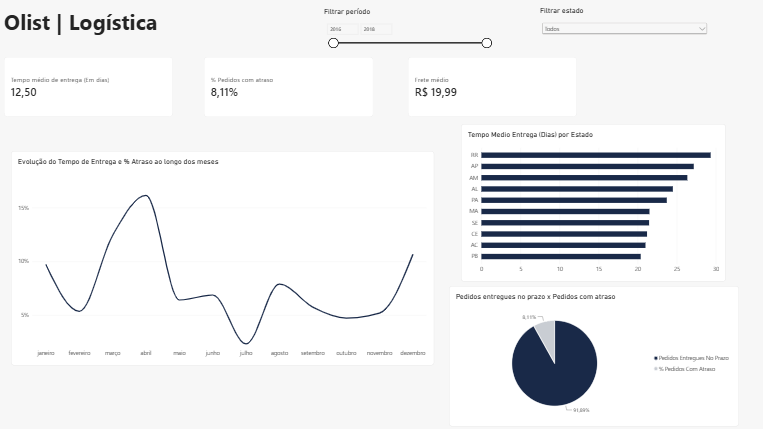

Layout of this report page (visuals, bound fields, positions):
{"tool":"powerbi","page":{"name":"Visão Logística","canvas":[1920,1080],"ordinal":1},"visuals":[{"type":"textbox","box":[17.5,22.5,755,82.5],"z":0},{"type":"cardVisual","fields":{"Data":["Medidas.Tempo Medio Entrega (Dias)"]},"box":[18,148,422.9,149.6],"z":1000},{"type":"slicer","title":"Filtrar período","fields":{"Values":["pedidos.order_delivered_customer_date.Variação.Hierarquia de datas.Ano"]},"box":[818,22,422.9,106.3],"z":2000},{"type":"slicer","title":"Filtrar estado","fields":{"Values":["clientes.customer_state"]},"box":[1358,20,422.9,106.3],"z":3000},{"type":"cardVisual","fields":{"Data":["Medidas.% Pedidos Com Atraso"]},"box":[518,148,423,150],"z":4000},{"type":"cardVisual","fields":{"Data":["Medidas.FreteMedio"]},"box":[1028,148,422.9,149.6],"z":5000},{"type":"lineChart","title":"Evolução do Tempo de Entrega e % Atraso ao longo dos meses","fields":{"Category":["pedidos.order_delivered_customer_date.Variação.Hierarquia de datas.Mês"],"Y":["Medidas.% Pedidos Com Atraso"]},"box":[36,382,1058,536],"z":6000},{"type":"clusteredBarChart","fields":{"Category":["clientes.customer_state"],"Y":["Medidas.Tempo Medio Entrega (Dias)"]},"box":[1160,314,662,394],"z":7000},{"type":"pieChart","title":"Pedidos entregues no prazo x Pedidos com atraso","fields":{"Y":["Medidas.Pedidos Entregues No Prazo","Medidas.% Pedidos Com Atraso"]},"box":[1128.8,718.8,725,351.2],"z":8000}]}

Visuals, with their boxes in screenshot pixels (x1, y1, x2, y2), scaled from the page's 1920x1080 canvas onto the 763x429 screenshot:
textbox: bbox=(7, 9, 307, 42)
cardVisual - Medidas.Tempo Medio Entrega (Dias): bbox=(7, 59, 175, 118)
"Filtrar período" slicer: bbox=(325, 9, 493, 51)
"Filtrar estado" slicer: bbox=(540, 8, 708, 50)
cardVisual - Medidas.% Pedidos Com Atraso: bbox=(206, 59, 374, 118)
cardVisual - Medidas.FreteMedio: bbox=(409, 59, 577, 118)
"Evolução do Tempo de Entrega e % Atraso ao longo dos meses" lineChart: bbox=(14, 152, 435, 365)
clusteredBarChart - clientes.customer_state x Medidas.Tempo Medio Entrega (Dias): bbox=(461, 125, 724, 281)
"Pedidos entregues no prazo x Pedidos com atraso" pieChart: bbox=(449, 286, 737, 425)
